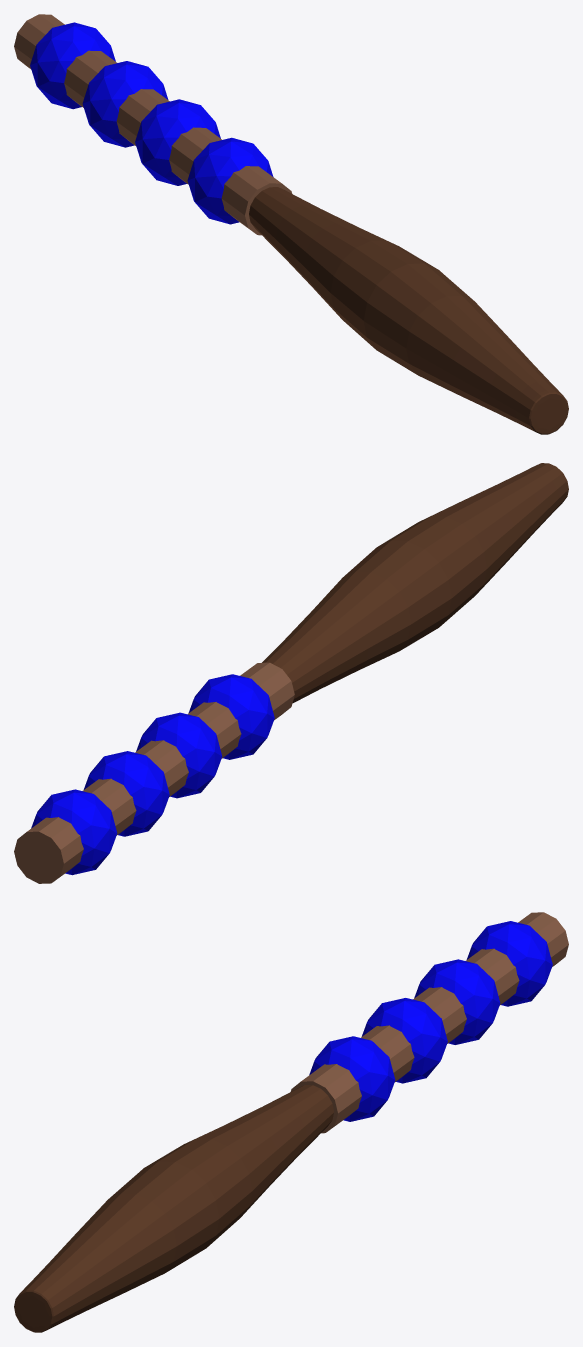
The model's file is Wand 16.glb.
3 views of the same model, one above another, from view 1: azimuth 30°, elevation 25°; view 2: azimuth 150°, elevation 25°; view 3: azimuth 330°, elevation 25° (orthographic).
Parts seen in each view (by area): view 1: GeneratedWand; view 2: GeneratedWand; view 3: GeneratedWand.
Boxes of the visible parts, x1,y1,x2,y2 form: GeneratedWand: (14,14,568,434); GeneratedWand: (14,463,568,883); GeneratedWand: (14,912,568,1332).
Size of the model in its own units: 0.0499 by 0.0499 by 0.5002.
